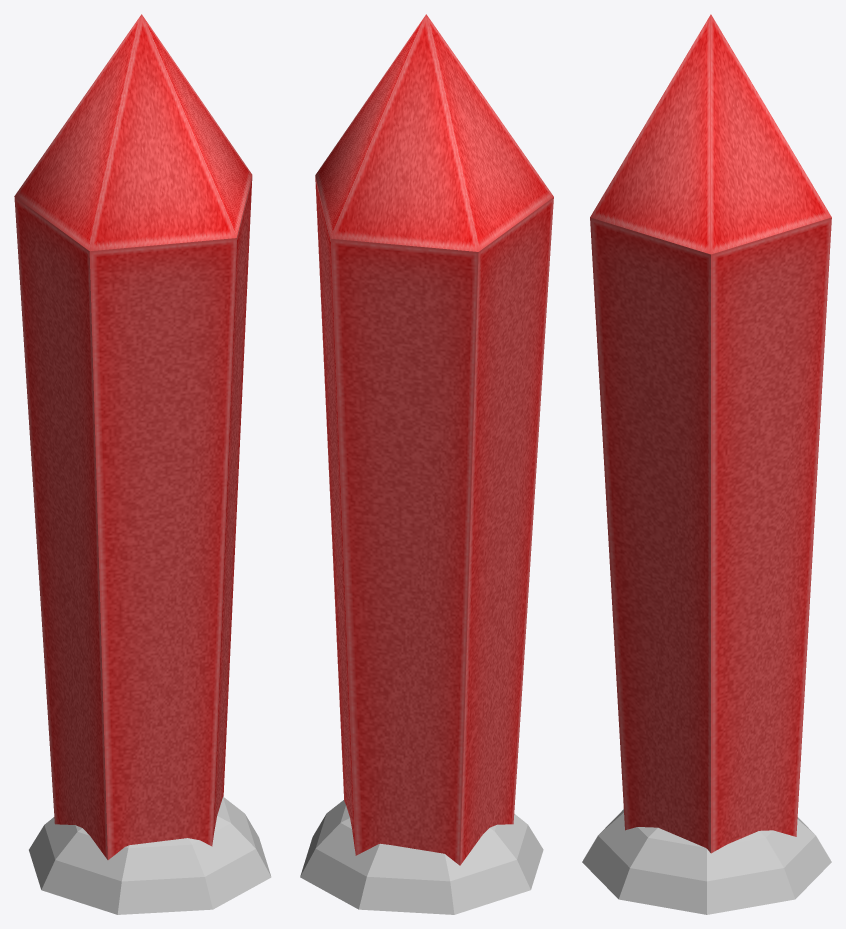
File: Crystal_Red.fbx
The picture shows the model from 3 angles, left to right: view 1: azimuth 30°, elevation 25°; view 2: azimuth 150°, elevation 25°; view 3: azimuth 270°, elevation 25°; orthographic projection.
Visible parts, largest first — view 1: pCylinder12, polySurface3; view 2: pCylinder12, polySurface3; view 3: pCylinder12, polySurface3.
Part boxes in pixels (x1=…): pCylinder12: x1=14, y1=14, x2=252, y2=859; polySurface3: x1=29, y1=796, x2=271, y2=914; pCylinder12: x1=315, y1=14, x2=553, y2=865; polySurface3: x1=300, y1=800, x2=543, y2=914; pCylinder12: x1=590, y1=14, x2=831, y2=853; polySurface3: x1=582, y1=809, x2=831, y2=914.
Bounding box in the file's own units: 0.7143 × 2.66 × 0.7143.
